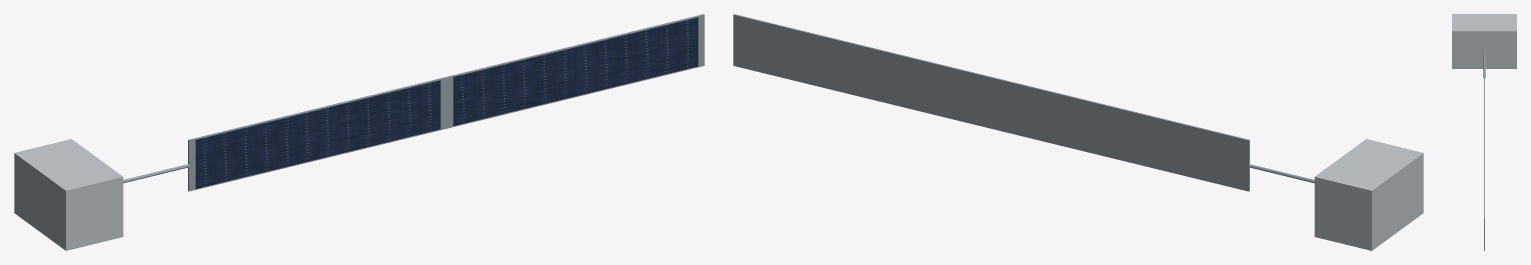
File: ref-astrobus-l-59908.glb
The picture shows the model from 3 angles, left to right: view 1: azimuth 30°, elevation 25°; view 2: azimuth 150°, elevation 25°; view 3: azimuth 270°, elevation 25°; orthographic projection. The views are drawn at different scales.
Visible parts, largest first — view 1: Photovoltaic laminates (×2), Spacecraft body, Array frame (×2); view 2: Array frame (×2), Spacecraft body; view 3: Spacecraft body, Array frame (×2), Solar array drive.
Boxes of the visible parts, bbox=[...] form: Photovoltaic laminates (×2): bbox=[195, 17, 698, 188]; Spacecraft body: bbox=[14, 139, 123, 250]; Array frame (×2): bbox=[188, 14, 704, 191]; Array frame (×2): bbox=[733, 14, 1249, 191]; Spacecraft body: bbox=[1314, 139, 1423, 250]; Spacecraft body: bbox=[1452, 14, 1516, 68]; Array frame (×2): bbox=[1484, 62, 1484, 250]; Solar array drive: bbox=[1483, 49, 1485, 78].
Size of the model in its own units: 18.5 by 1.6 by 2.5.
Materials: 3 (1 with a texture image).
